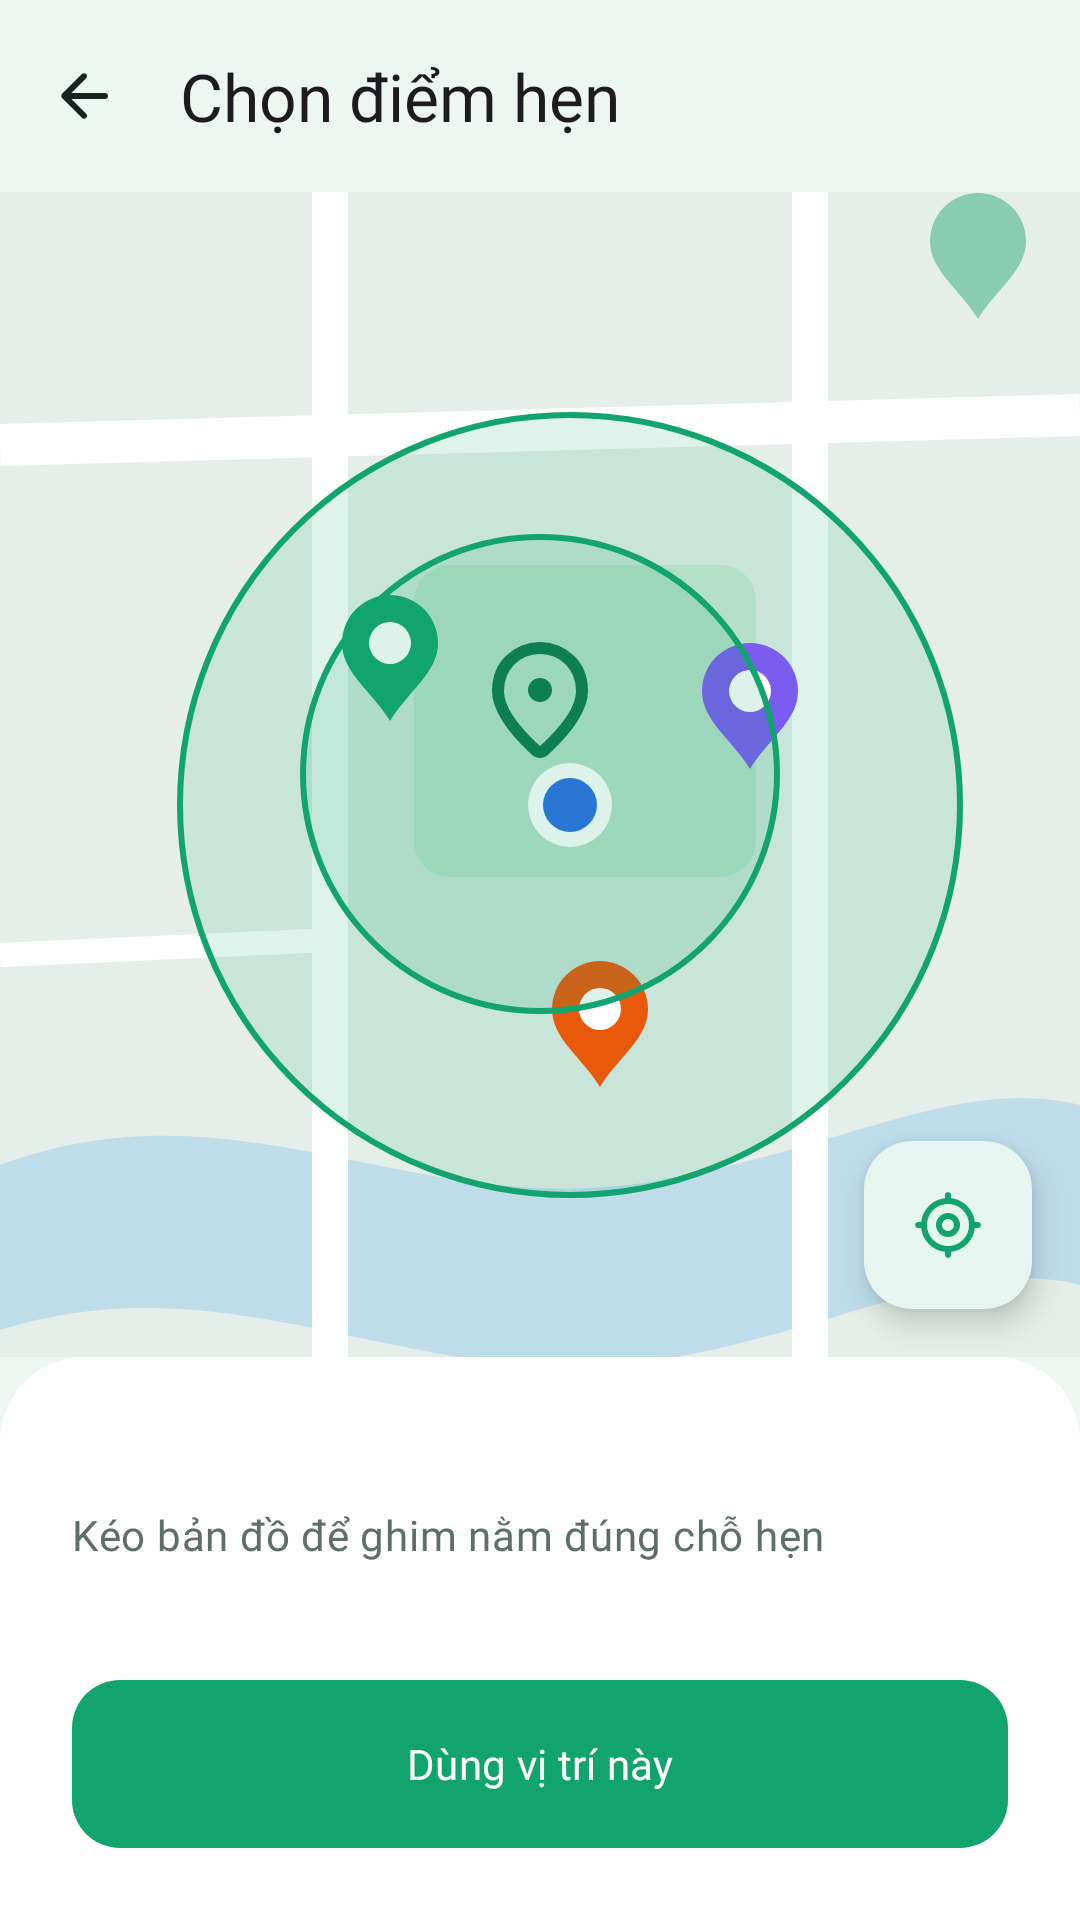

Where icons sit on this 1080x1920 app screen, as (x1, y1, x2, y2):
Về vị trí của tôi: (864, 1141, 1032, 1309)
